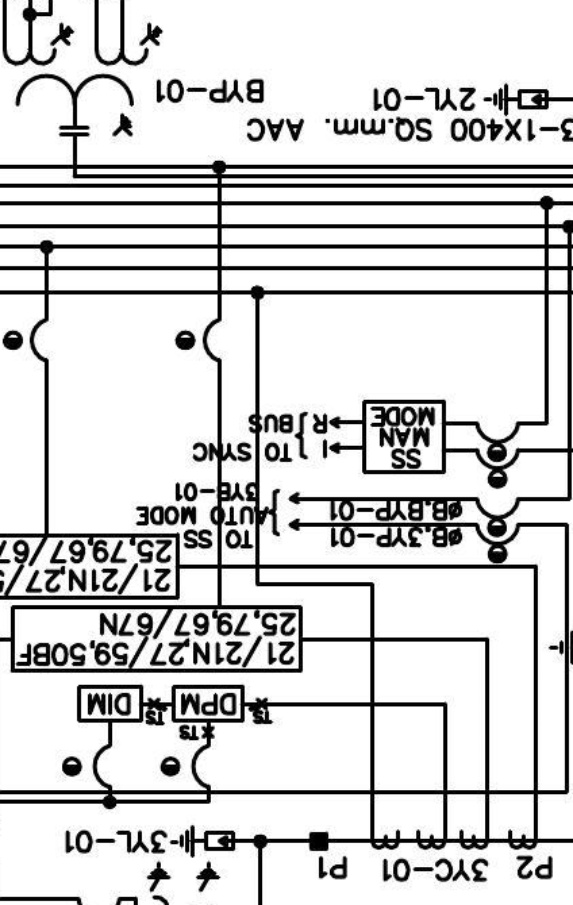115_cvt_3p: (2, 21, 164, 137)
115_la: (168, 824, 236, 859), (483, 82, 549, 117)
DIM: (76, 684, 143, 724)
DPM: (171, 684, 245, 724)
ss_man_mode: (362, 399, 447, 475)
